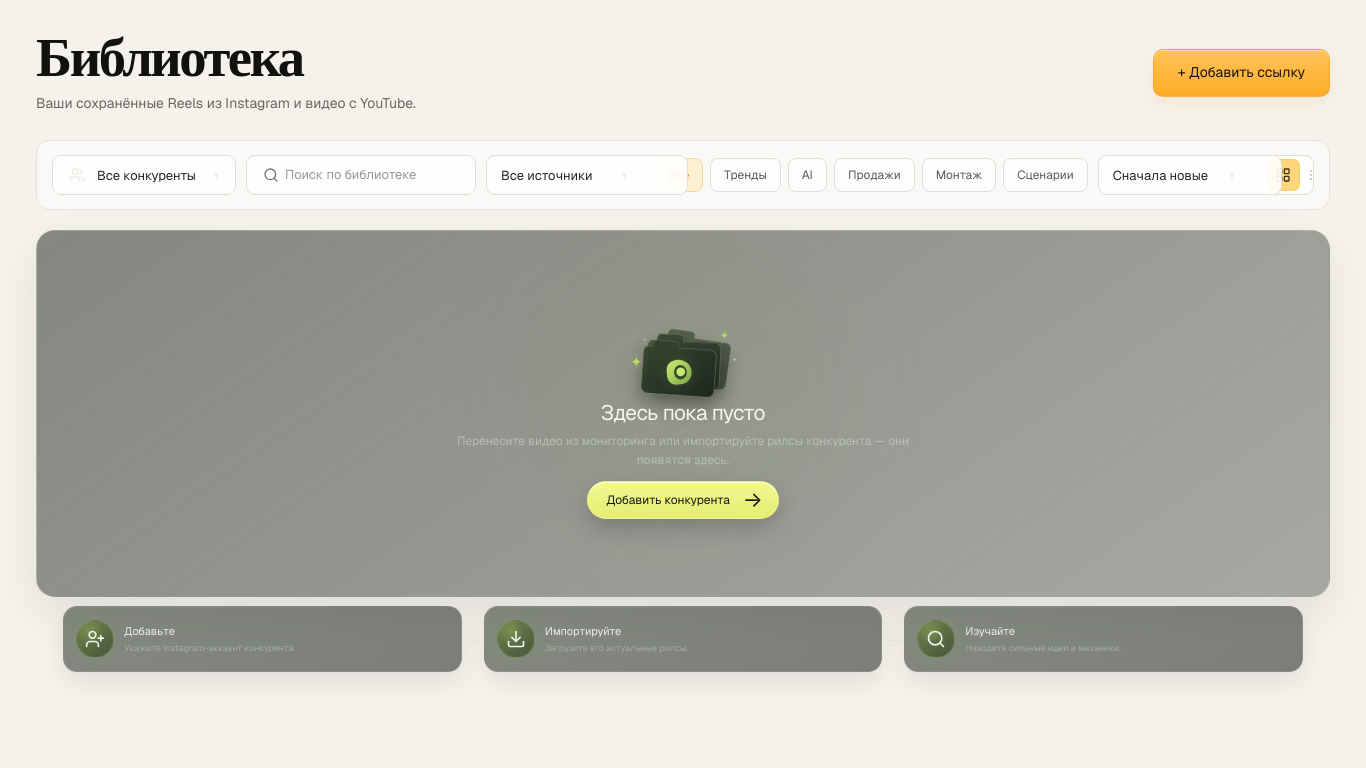
Test: ReelsPage › opens the competitor import dialog without navigating away
Click the button "+ Добавить ссылку".
click(1241, 73)  # box 1153,49 -> 1330,97
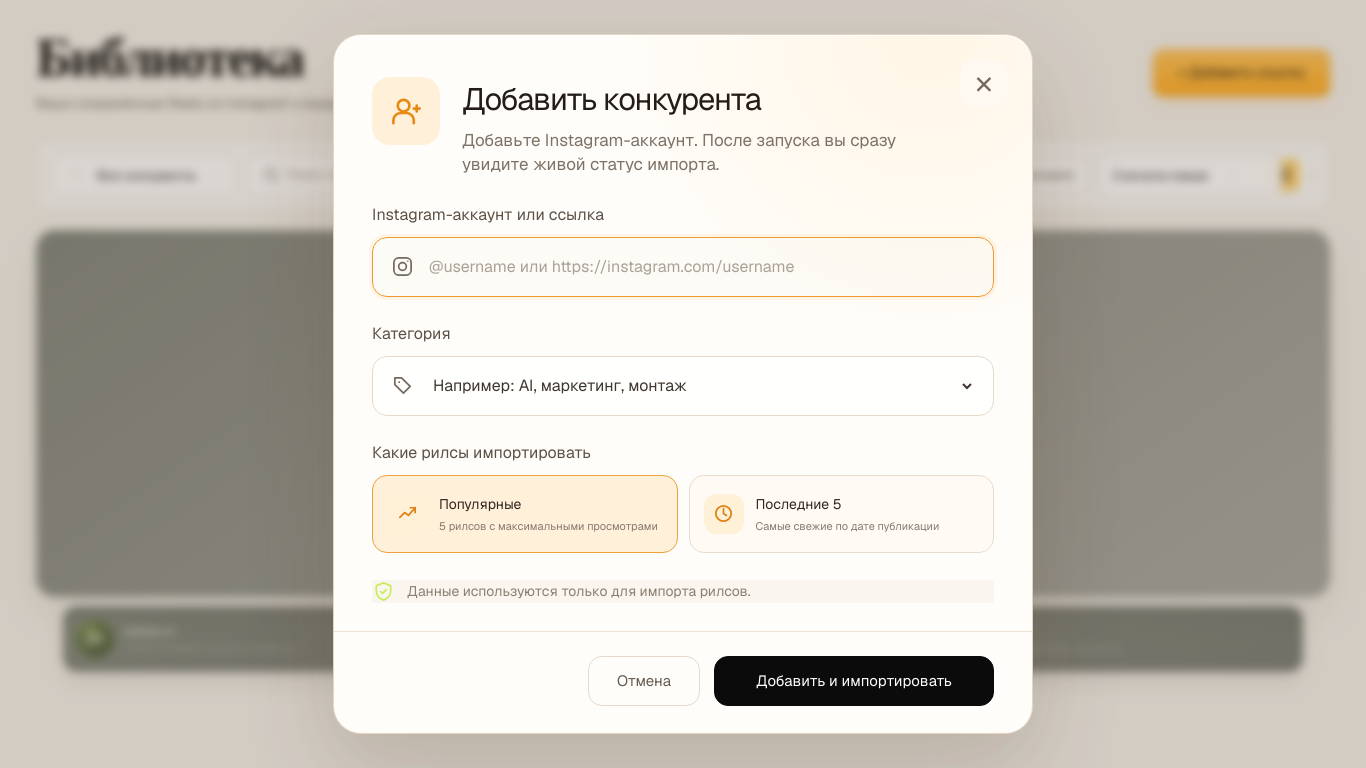
Result: the dialog "Добавить конкурента" is shown at 333,34 -> 1033,734
Result: the field labelled "Instagram-аккаунт или ссылка" is shown at 429,238 -> 975,296
